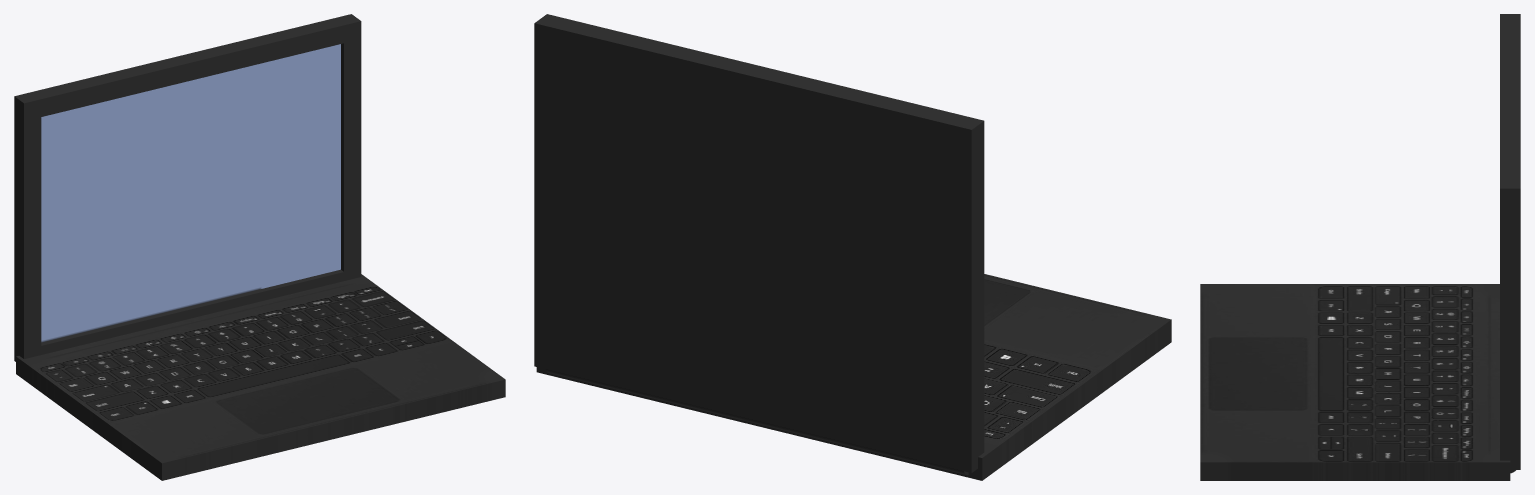
File: laptop.fbx
3 views of the same model, side by side, from view 1: azimuth 30°, elevation 25°; view 2: azimuth 150°, elevation 25°; view 3: azimuth 270°, elevation 25° (orthographic). The views are drawn at different scales.
Visible parts, largest first — view 1: Laptop; view 2: Laptop; view 3: Laptop.
Part boxes in pixels (x1,y1,x2,y2): Laptop: [14, 14, 505, 480]; Laptop: [534, 14, 1171, 480]; Laptop: [1200, 14, 1520, 480].
Size of the model in its own units: 204 by 155 by 155.
